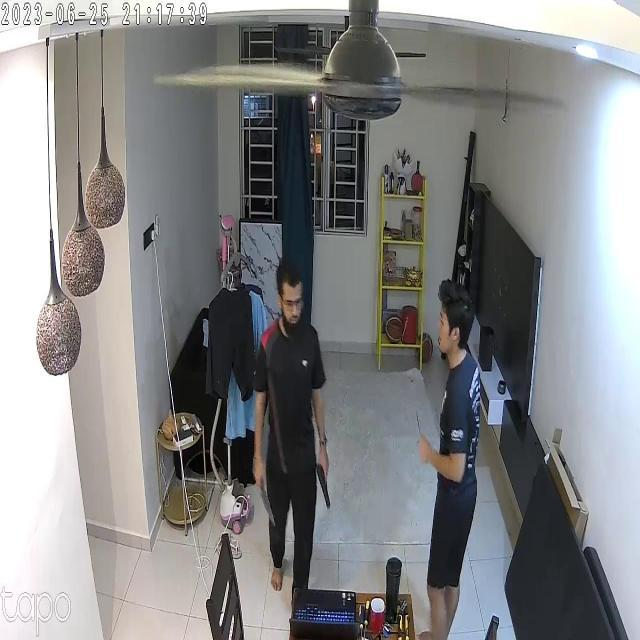Gun: (307, 455, 343, 513)
Knife: (253, 481, 282, 529)
